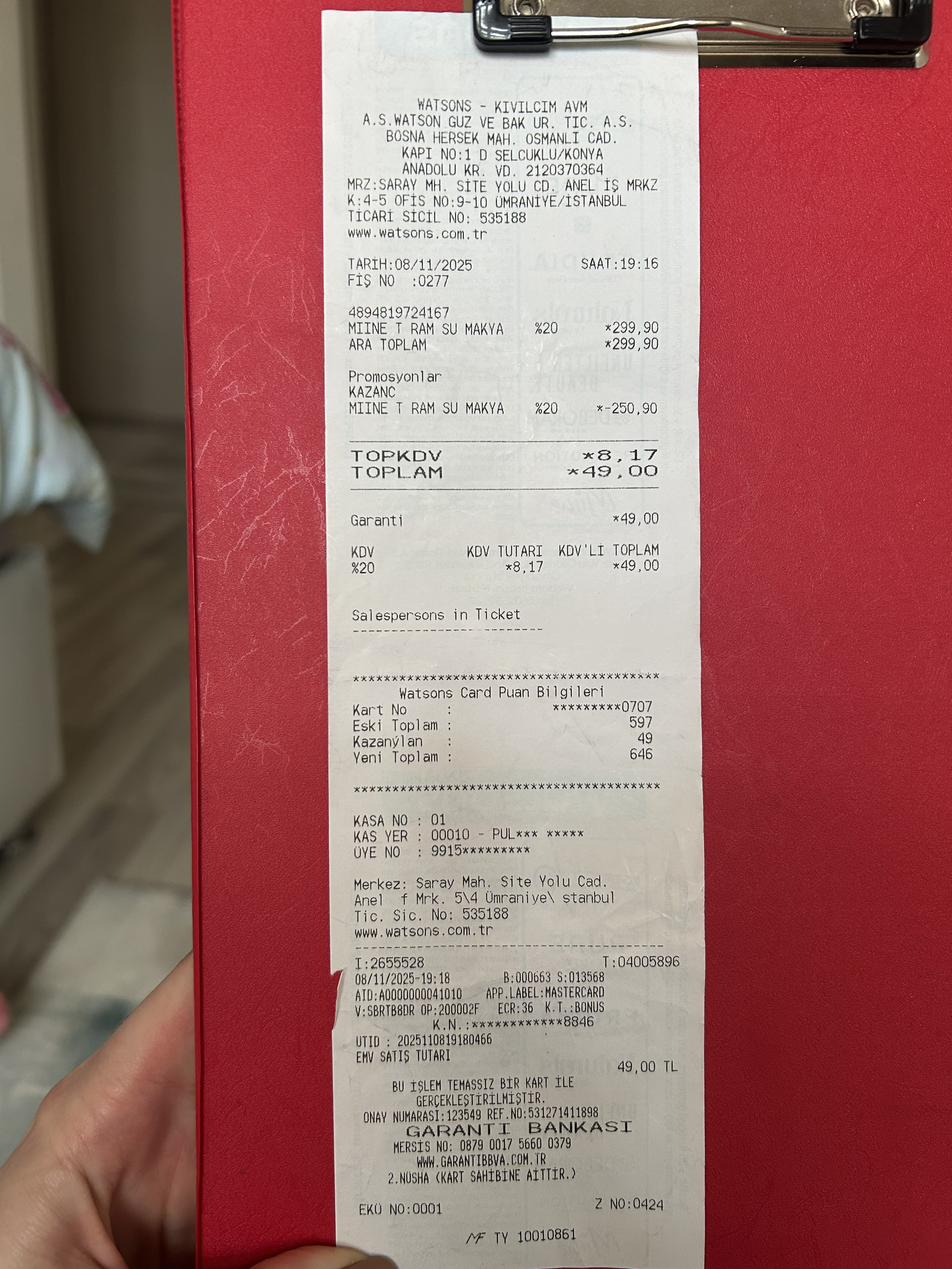date: (393, 255, 475, 273)
price: (581, 462, 666, 482)
workplace: (354, 92, 648, 165)
